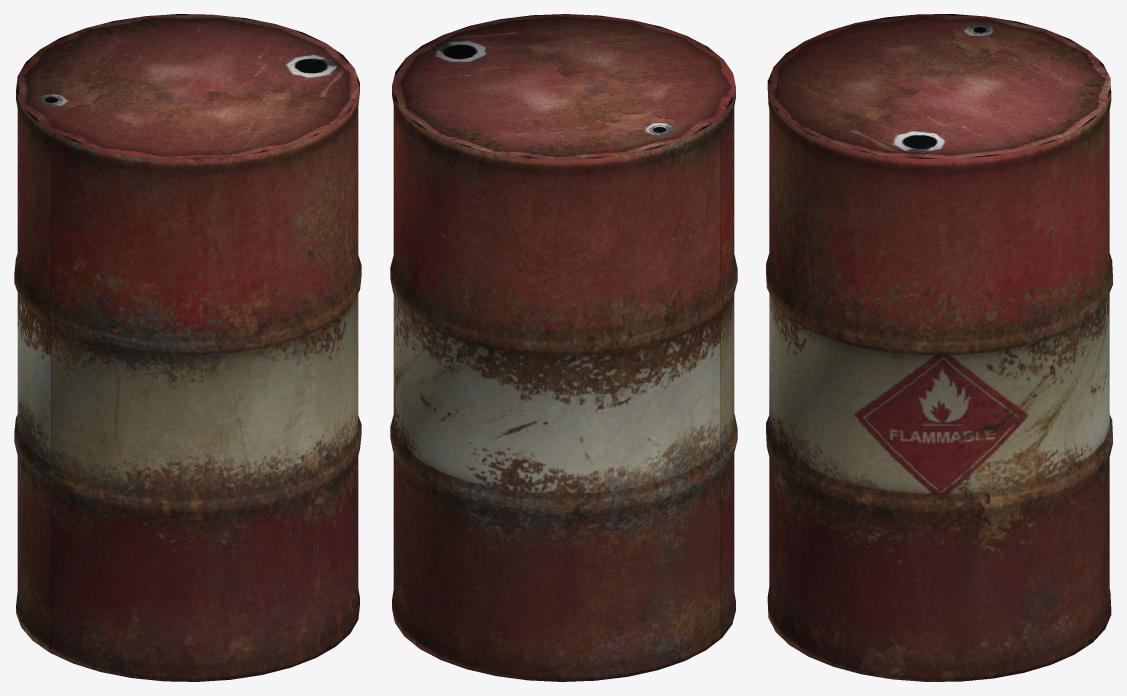
The model's file is oil_drum.obj.
3 views of the same model, side by side, from view 1: azimuth 30°, elevation 25°; view 2: azimuth 150°, elevation 25°; view 3: azimuth 270°, elevation 25° (orthographic).
Parts seen in each view (by area): view 1: Oildrum-ref_Cylinder.001; view 2: Oildrum-ref_Cylinder.001; view 3: Oildrum-ref_Cylinder.001.
Part boxes in pixels (<box>): Oildrum-ref_Cylinder.001: <box>14,14,361,681</box>; Oildrum-ref_Cylinder.001: <box>390,14,737,681</box>; Oildrum-ref_Cylinder.001: <box>766,14,1112,681</box>.
Bounding box in the file's own units: 0.695 × 1.16 × 0.695.
Materials: 1 (1 with a texture image).
